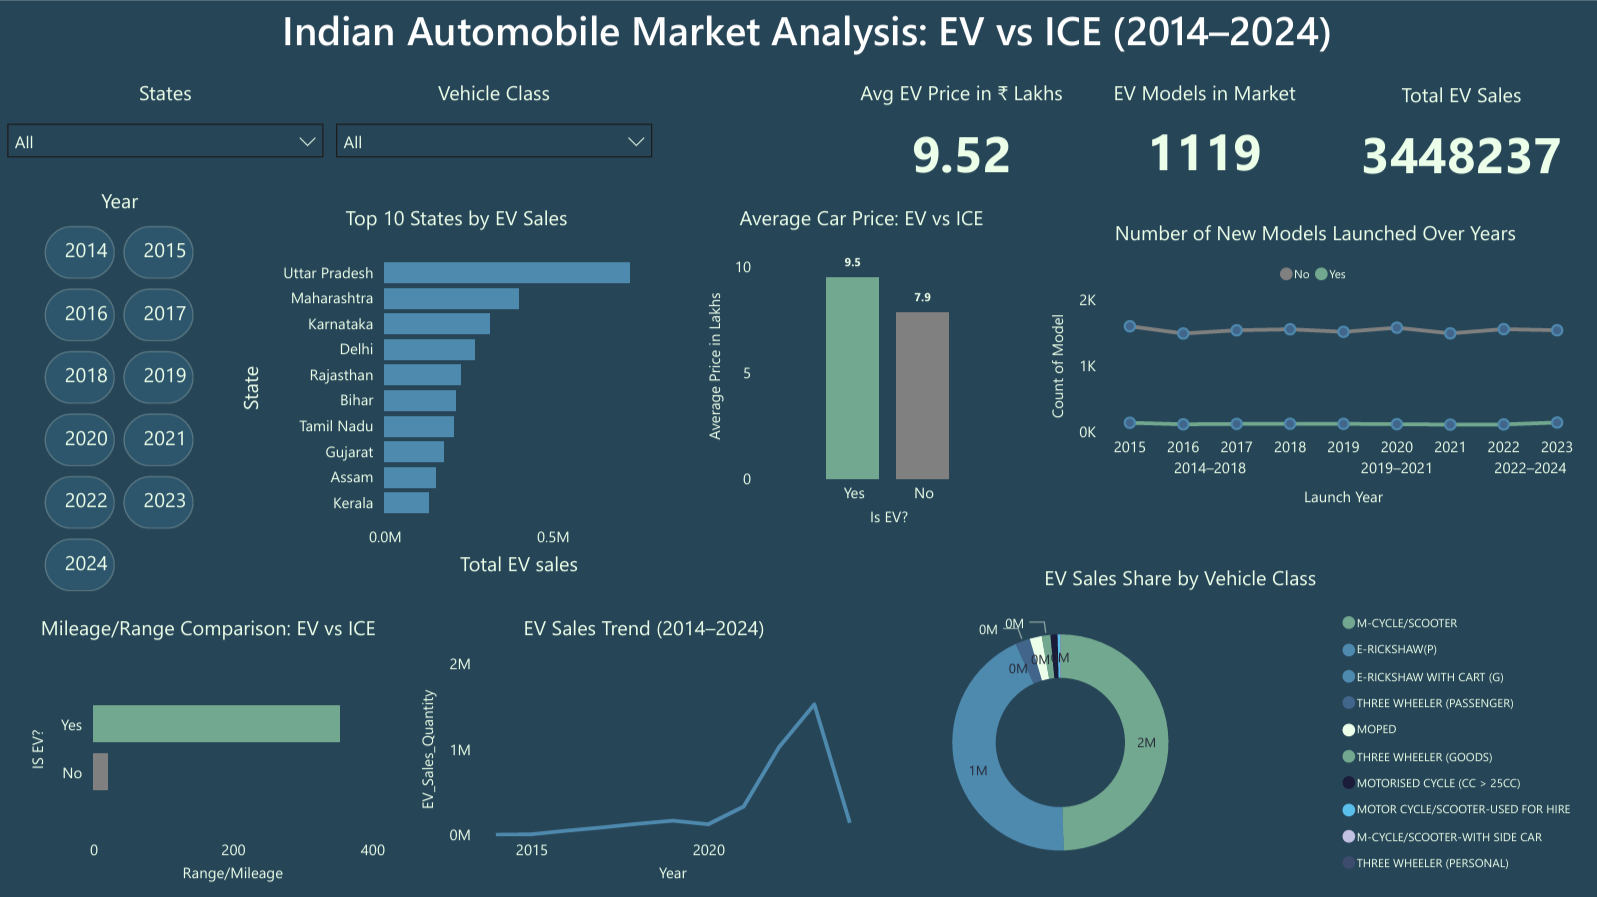

The page's visual inventory and layout, read from the dashboard file:
{"tool":"powerbi","page":{"name":"Dashboard","canvas":[1280,720],"ordinal":0},"visuals":[{"type":"textbox","box":[9.7,0,1270.3,62.2],"z":0},{"type":"lineStackedColumnComboChart","title":"EV Sales Trend (2014–2024)","fields":{"Category":["Cleaned EV sales.Year"],"Y":["Sum(Cleaned EV sales.EV_Sales_Quantity)"],"Y2":["Sum(Cleaned EV sales.EV_Sales_Quantity)"]},"box":[321.9,474.7,385.2,245.1],"z":1000},{"type":"barChart","title":"Top 10 States by EV Sales","fields":{"Category":["Cleaned EV sales.State"],"Y":["Sum(Cleaned EV sales.EV_Sales_Quantity)"]},"box":[178,146.9,373.5,327.8],"z":2000},{"type":"donutChart","title":"EV Sales Share by Vehicle Class","fields":{"Category":["Cleaned EV sales.Vehicle_Class"],"Y":["Sum(Cleaned EV sales.EV_Sales_Quantity)"]},"box":[606.9,434.8,673.1,285],"z":3000},{"type":"clusteredColumnChart","title":"Average Car Price: EV vs ICE","fields":{"Category":["Cleaned car models.Is EV?"],"Y":["Avg(Cleaned car models.Minimum_Price)"]},"box":[551.5,146.9,274.3,287.9],"z":4000},{"type":"clusteredBarChart","title":"Mileage/Range Comparison: EV vs ICE","fields":{"Category":["Cleaned car models.Is EV?"],"Y":["Avg(Cleaned car models.Mileage/Range)"]},"box":[9.7,474.7,312.2,245.1],"z":5000},{"type":"kpi","title":"Total EV Sales","fields":{"Indicator":["Sum(Cleaned EV sales.EV_Sales_Quantity)"],"TrendLine":["Cleaned car models.Model"]},"box":[1057.3,48.6,222.7,113.8],"z":6000},{"type":"kpi","title":"EV Models in Market","fields":{"Indicator":["CountNonNull(Cleaned car models.Model)"],"TrendLine":["Cleaned car models.Is EV?"]},"box":[868.6,46.7,188.7,111.9],"z":7000},{"type":"kpi","title":"Avg EV Price in ₹ Lakhs","fields":{"Indicator":["Avg(Cleaned car models.Minimum_Price)"],"TrendLine":["Cleaned car models.Is EV?"]},"box":[668.2,46.7,200.4,115.7],"z":8000},{"type":"lineChart","title":"Number of New Models Launched Over Years","fields":{"Series":["Cleaned car models.Is EV?"],"Y":["CountNonNull(Cleaned car models.Model)"],"Category":["Cleaned car models.Launch_Period","Cleaned car models.Launch Year"]},"box":[825.8,158.5,451.3,260.7],"z":9000},{"type":"advancedSlicerVisual","fields":{"Values":["Cleaned EV sales.Year"]},"box":[0,134.2,189.7,354],"z":10000},{"type":"slicer","title":"States","fields":{"Values":["Cleaned EV sales.State"]},"box":[0,62.2,262.6,84.6],"z":11000},{"type":"slicer","title":"Vehicle Class","fields":{"Values":["Cleaned EV sales.Vehicle_Class"]},"box":[262.6,62.2,263.6,84.6],"z":12000}]}

Visuals, with their boxes in screenshot pixels (x1, y1, x2, y2), scaled from the page's 1280x720 canvas onto the 1597x897 screenshot:
textbox: rect(12, 0, 1596, 77)
"EV Sales Trend (2014–2024)" lineStackedColumnComboChart: rect(402, 591, 882, 896)
"Top 10 States by EV Sales" barChart: rect(222, 183, 688, 591)
"EV Sales Share by Vehicle Class" donutChart: rect(757, 542, 1596, 896)
"Average Car Price: EV vs ICE" clusteredColumnChart: rect(688, 183, 1030, 542)
"Mileage/Range Comparison: EV vs ICE" clusteredBarChart: rect(12, 591, 402, 896)
"Total EV Sales" kpi: rect(1319, 61, 1596, 202)
"EV Models in Market" kpi: rect(1084, 58, 1319, 198)
"Avg EV Price in ₹ Lakhs" kpi: rect(834, 58, 1084, 202)
"Number of New Models Launched Over Years" lineChart: rect(1030, 197, 1593, 522)
advancedSlicerVisual - Cleaned EV sales.Year: rect(0, 167, 237, 608)
"States" slicer: rect(0, 77, 328, 183)
"Vehicle Class" slicer: rect(328, 77, 657, 183)
